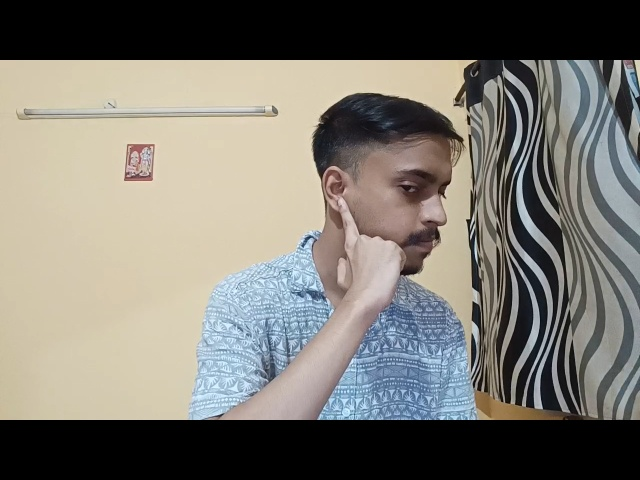Deaf: (272, 119, 432, 363)
